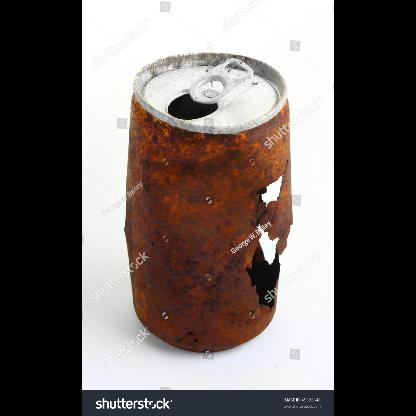Lid_Open: (148, 50, 254, 127)
